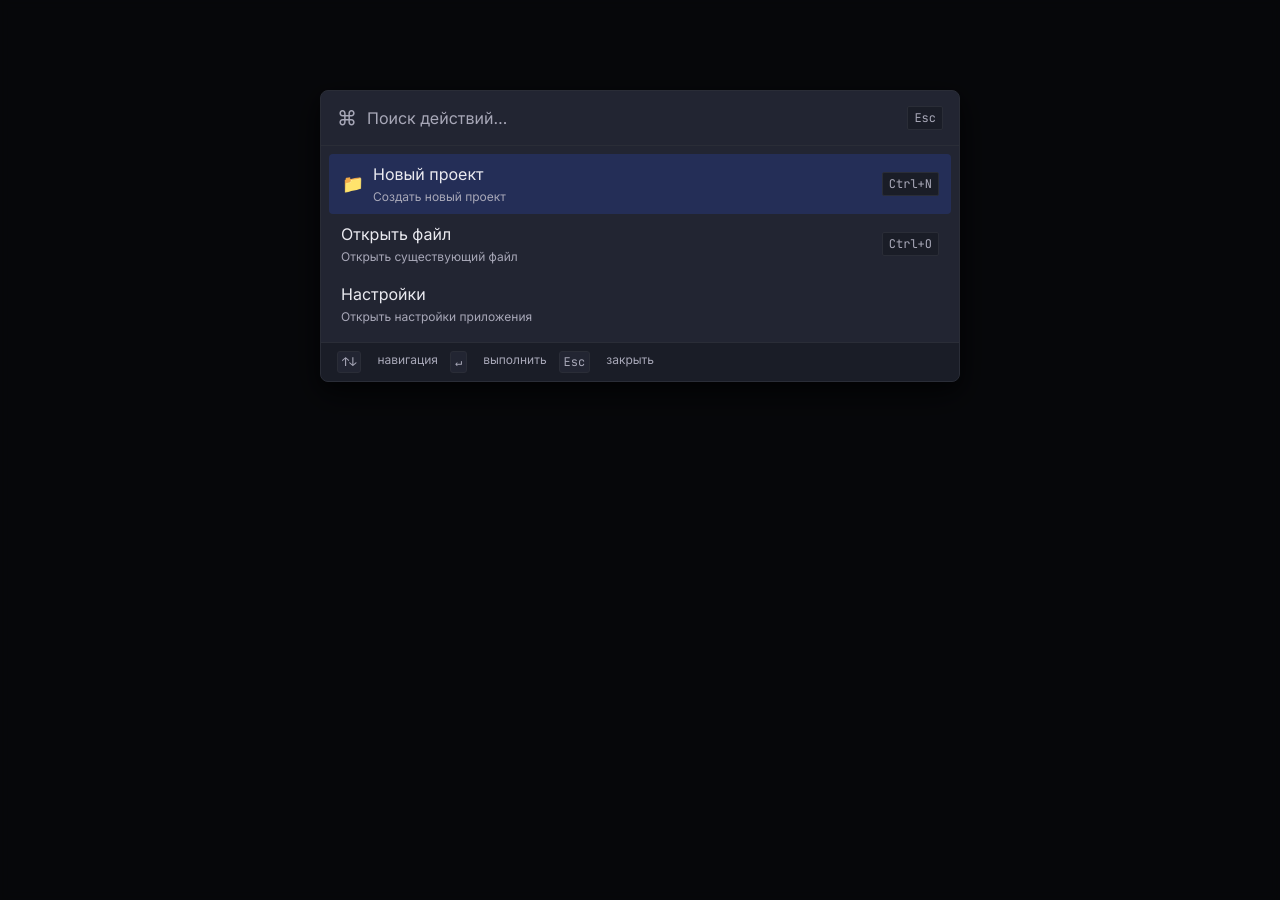
Test: CommandPalette › no matches → "Ничего не найдено" displayed
In the dropdown labelled "Поиск действий": (632, 118) x1=365 y1=107 x2=899 y2=129, type "zzzznotexists"
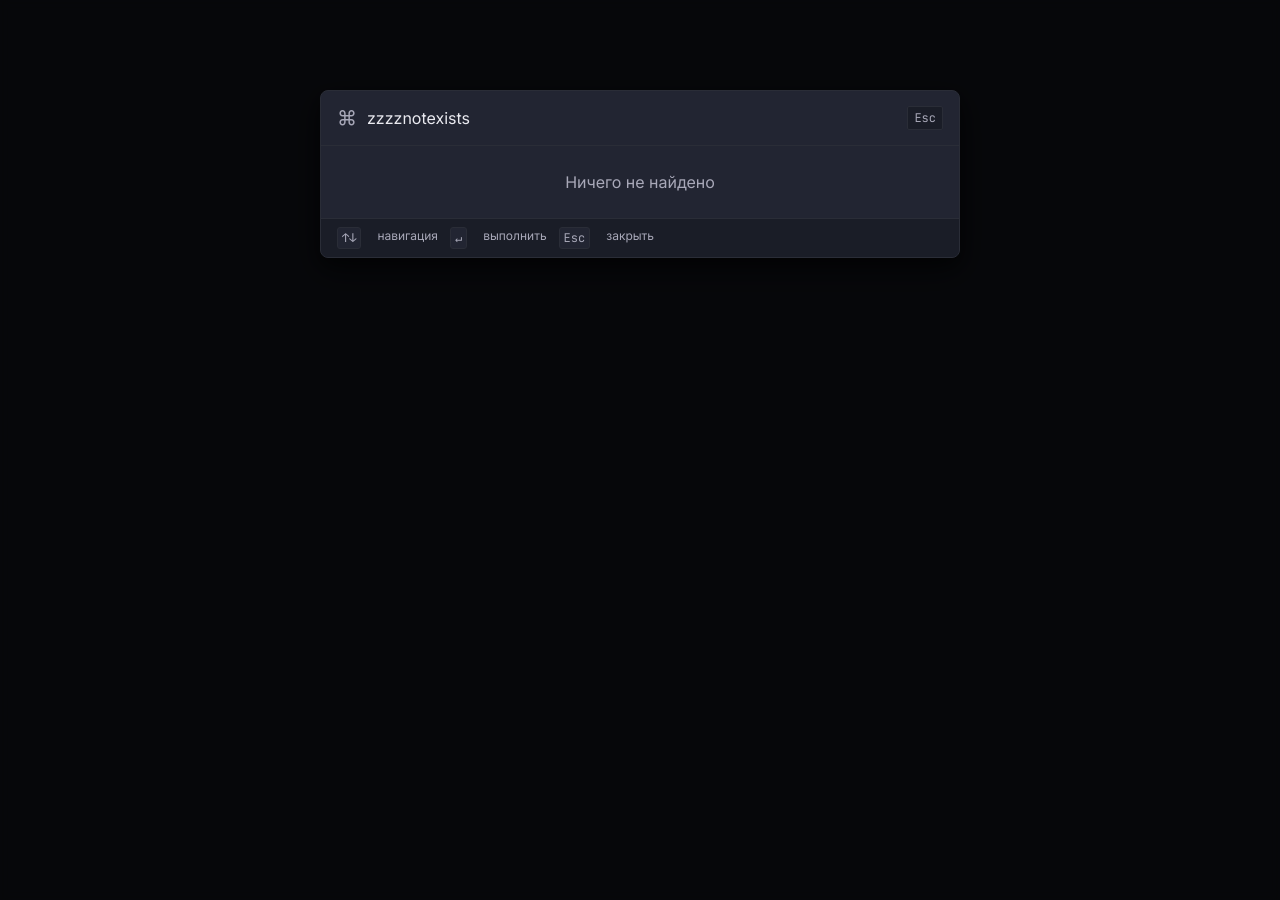
Expected: the list item "Ничего не найдено" is shown, x1=565 y1=172 x2=715 y2=192
